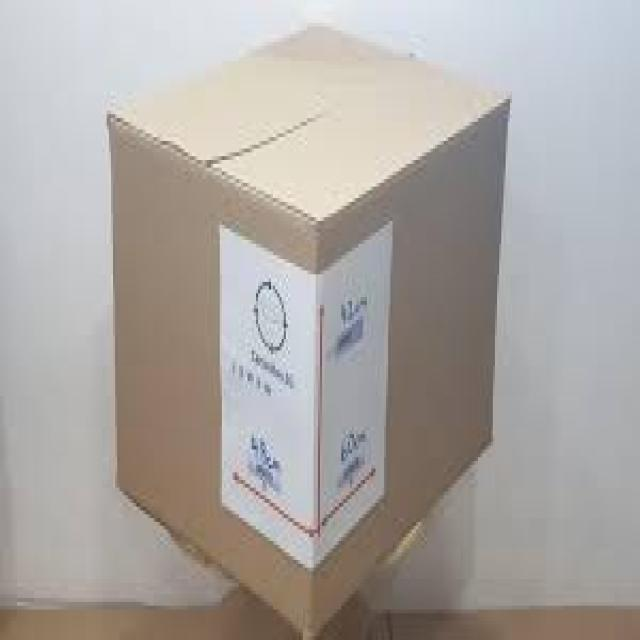box: (104, 19, 513, 640)
